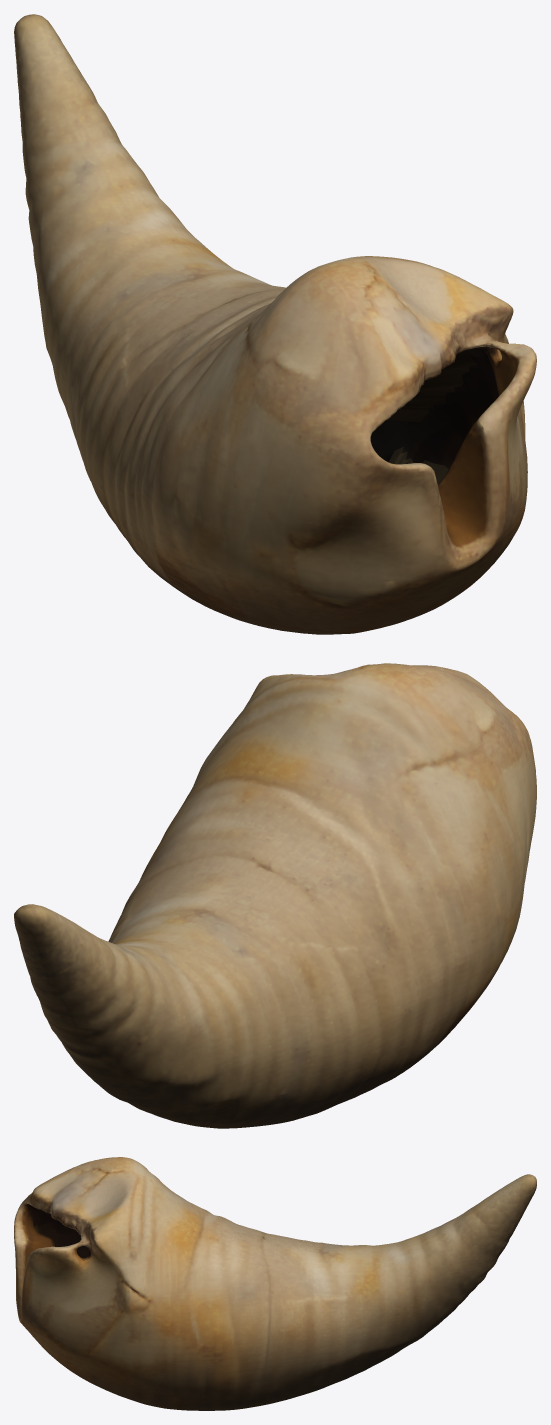
The picture shows the model from 3 angles, top to bottom: view 1: azimuth 30°, elevation 25°; view 2: azimuth 150°, elevation 25°; view 3: azimuth 270°, elevation 25°; orthographic projection. The views are drawn at different scales.
Parts seen in each view (by area): view 1: geometry_0; view 2: geometry_0; view 3: geometry_0.
Boxes of the visible parts, x1,y1,x2,y2 form: geometry_0: [14, 14, 536, 634]; geometry_0: [14, 663, 536, 1128]; geometry_0: [14, 1157, 536, 1410].
Size of the model in its own units: 0.0242 by 0.0273 by 0.055.
1 material, 1 textured.
